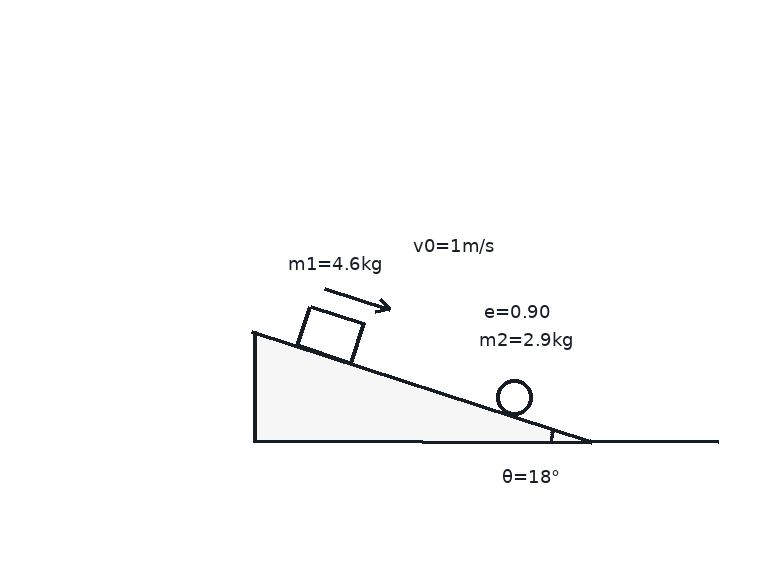ball: (494, 377, 534, 417)
block: (295, 305, 365, 365)
ramp: (251, 329, 593, 443)
